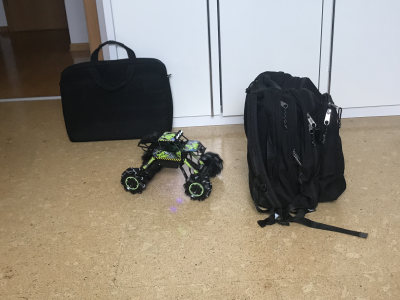remote control car: (119, 127, 226, 202)
